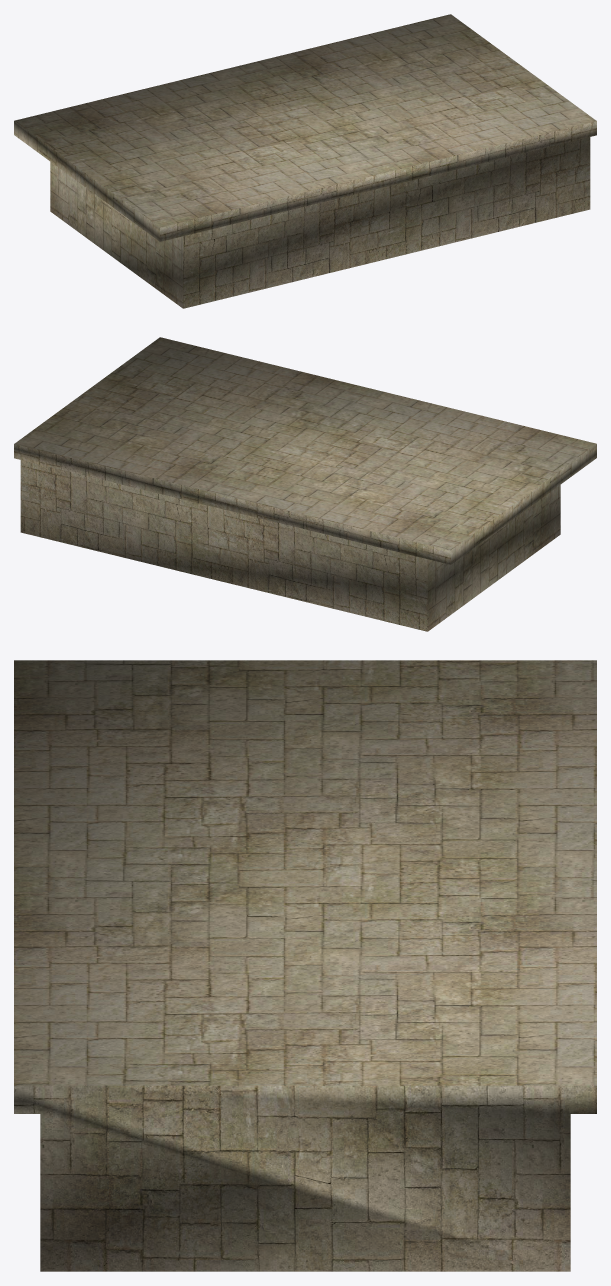
Rendered from platform3.fbx.
3 views of the same model, one above another, from view 1: azimuth 30°, elevation 25°; view 2: azimuth 150°, elevation 25°; view 3: azimuth 270°, elevation 25° (orthographic). The views are drawn at different scales.
Visible parts, largest first — view 1: platform3; view 2: platform3; view 3: platform3.
Boxes of the visible parts, x1=… form: platform3: x1=14, y1=14, x2=596, y2=308; platform3: x1=14, y1=337, x2=596, y2=631; platform3: x1=14, y1=660, x2=596, y2=1271.
Bounding box in the file's own units: 6.91 × 1.41 × 4.
